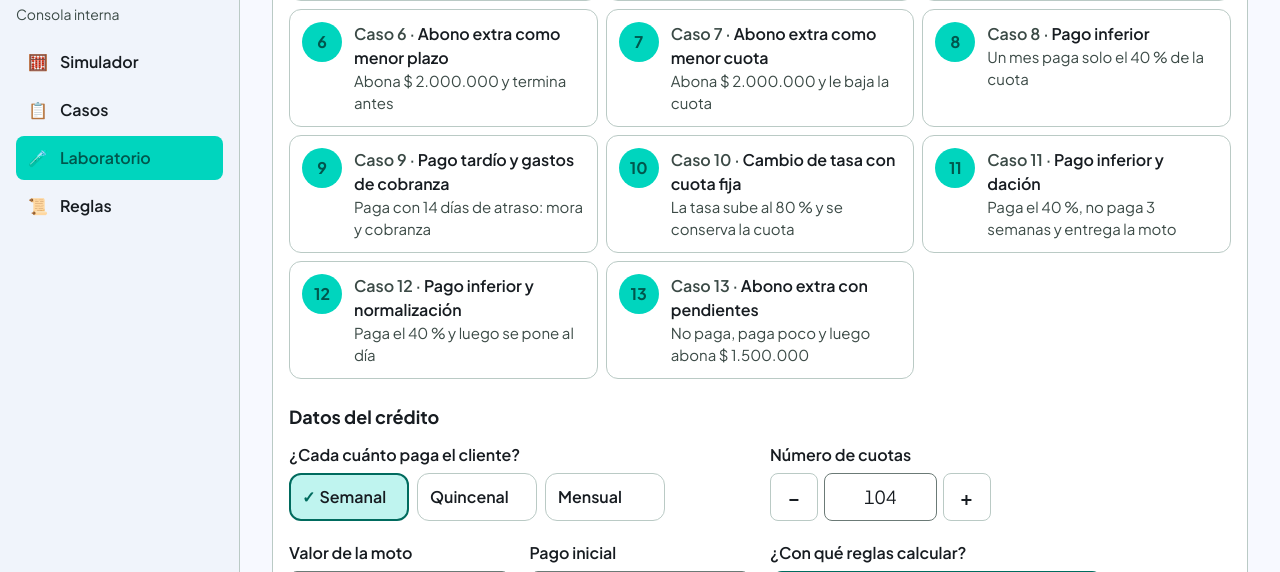
it: Laboratorio › parte de un caso desde las tarjetas y calcula
(page scrolled)
Click the radio button named "Caso 13:" at (760, 320), box [606, 261, 914, 379]
(page scrolled)
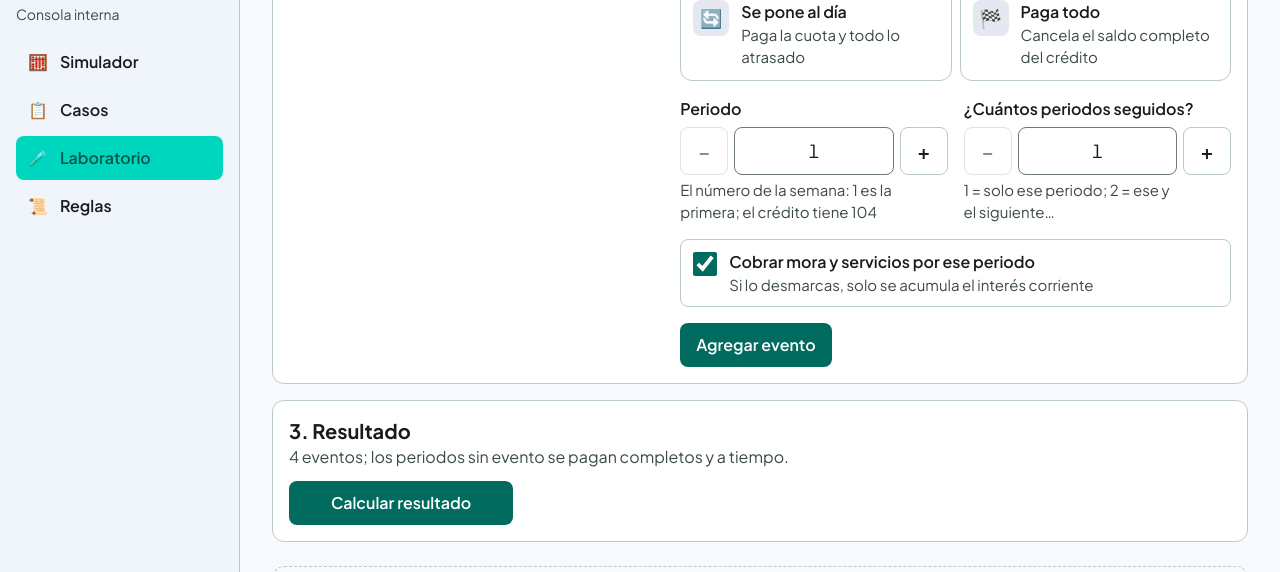
Click the button "Calcular resultado" at (401, 503), box [289, 481, 513, 525]
(page scrolled)
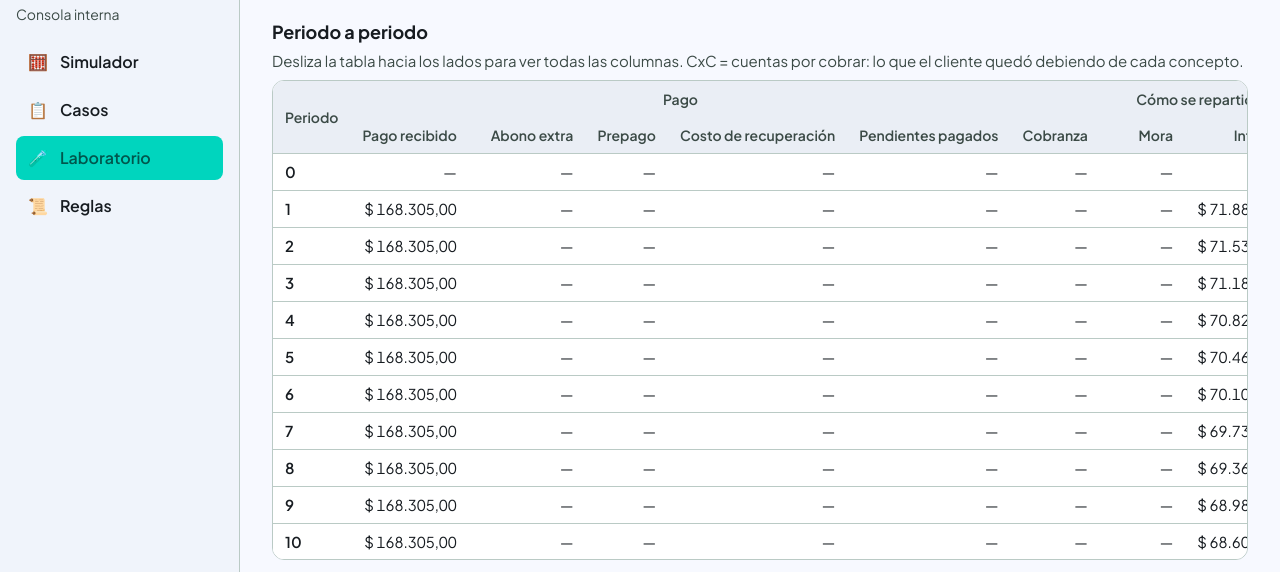
expect the element named "Tabla periodo a periodo" is shown: met
